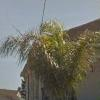Tree: (13, 2, 100, 98)
